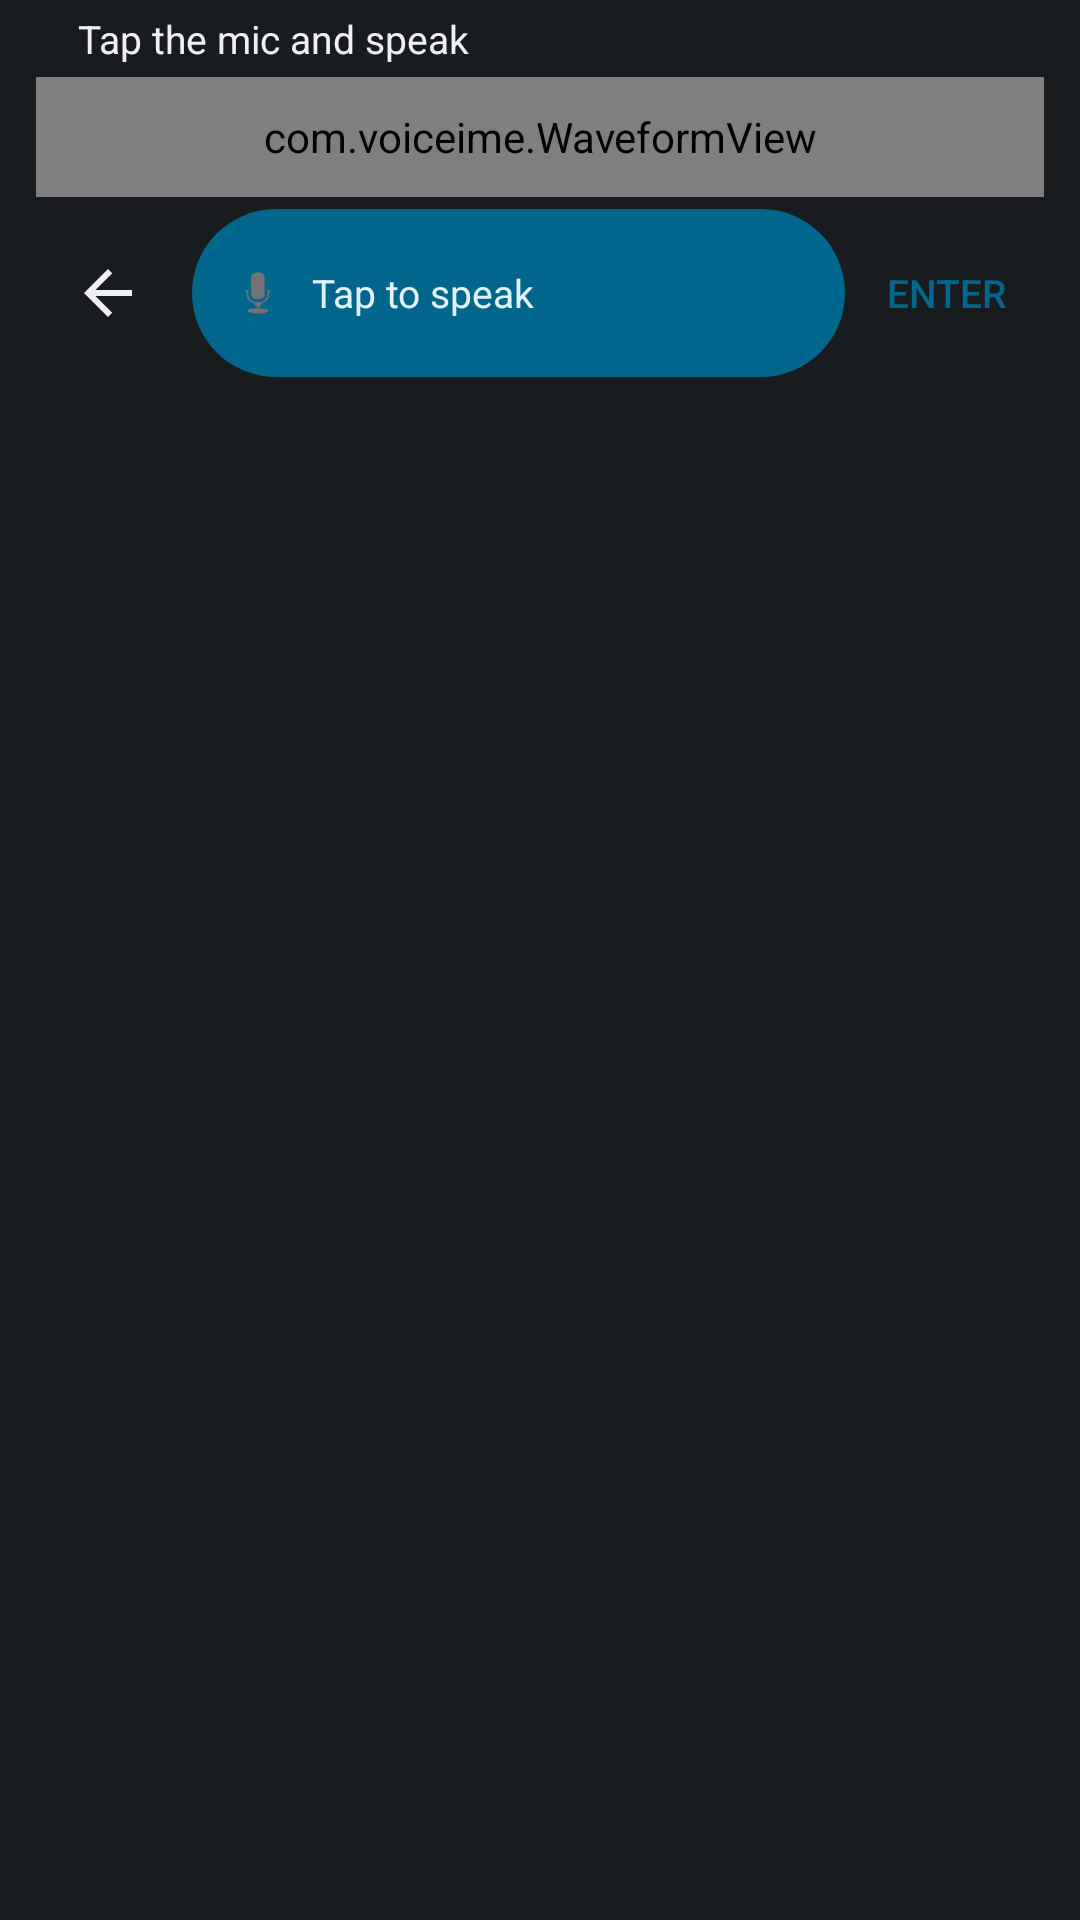

Named icons in this screenshot (1080px×1920px) and their centers, (x,y):
Back to previous keyboard: (108,293)
speak now: (258,293)
